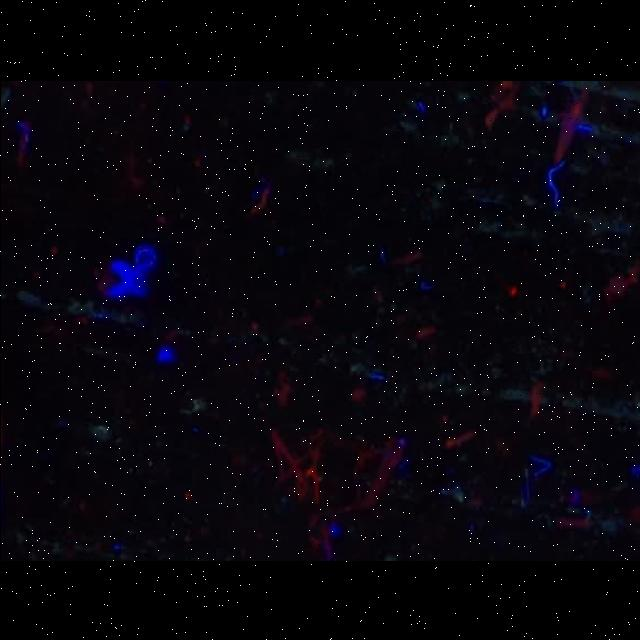Fragment: (484, 80, 518, 128)
